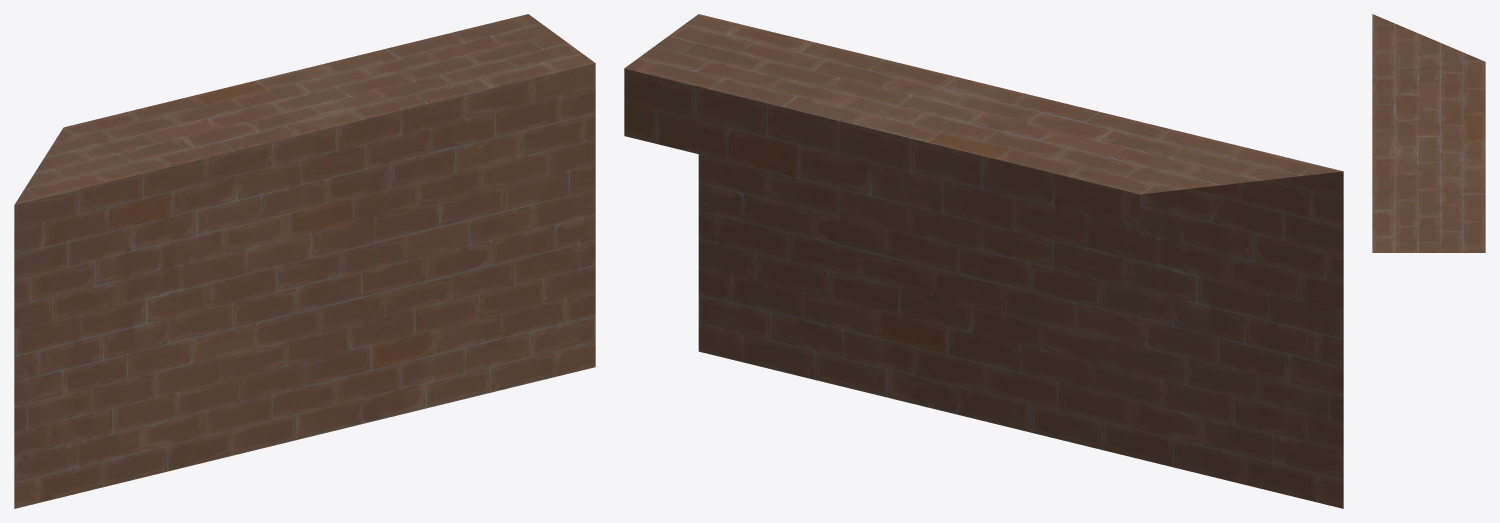
File: Cornice_Brick_L.glb
3 renders of one model, left to right at view 1: azimuth 30°, elevation 25°; view 2: azimuth 150°, elevation 25°; view 3: azimuth 270°, elevation 25°, orthographic. The views are drawn at different scales.
Parts seen in each view (by area): view 1: Cornice_Brick_L; view 2: Cornice_Brick_L; view 3: Cornice_Brick_L.
Boxes of the visible parts, x1,y1,x2,y2 form: Cornice_Brick_L: (14, 14, 595, 508); Cornice_Brick_L: (624, 14, 1343, 508); Cornice_Brick_L: (1372, 14, 1485, 252).
Size of the model in its own units: 2 by 1 by 0.4.
Materials: 1 (1 with a texture image).
